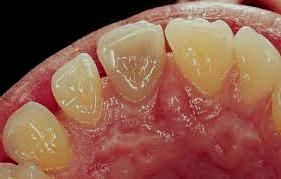Calculus: (2, 100, 71, 170), (166, 31, 235, 93), (47, 60, 102, 124)
Discoloration: (96, 23, 167, 102)
